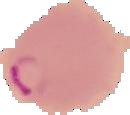parasitized: (6, 53, 56, 100)
